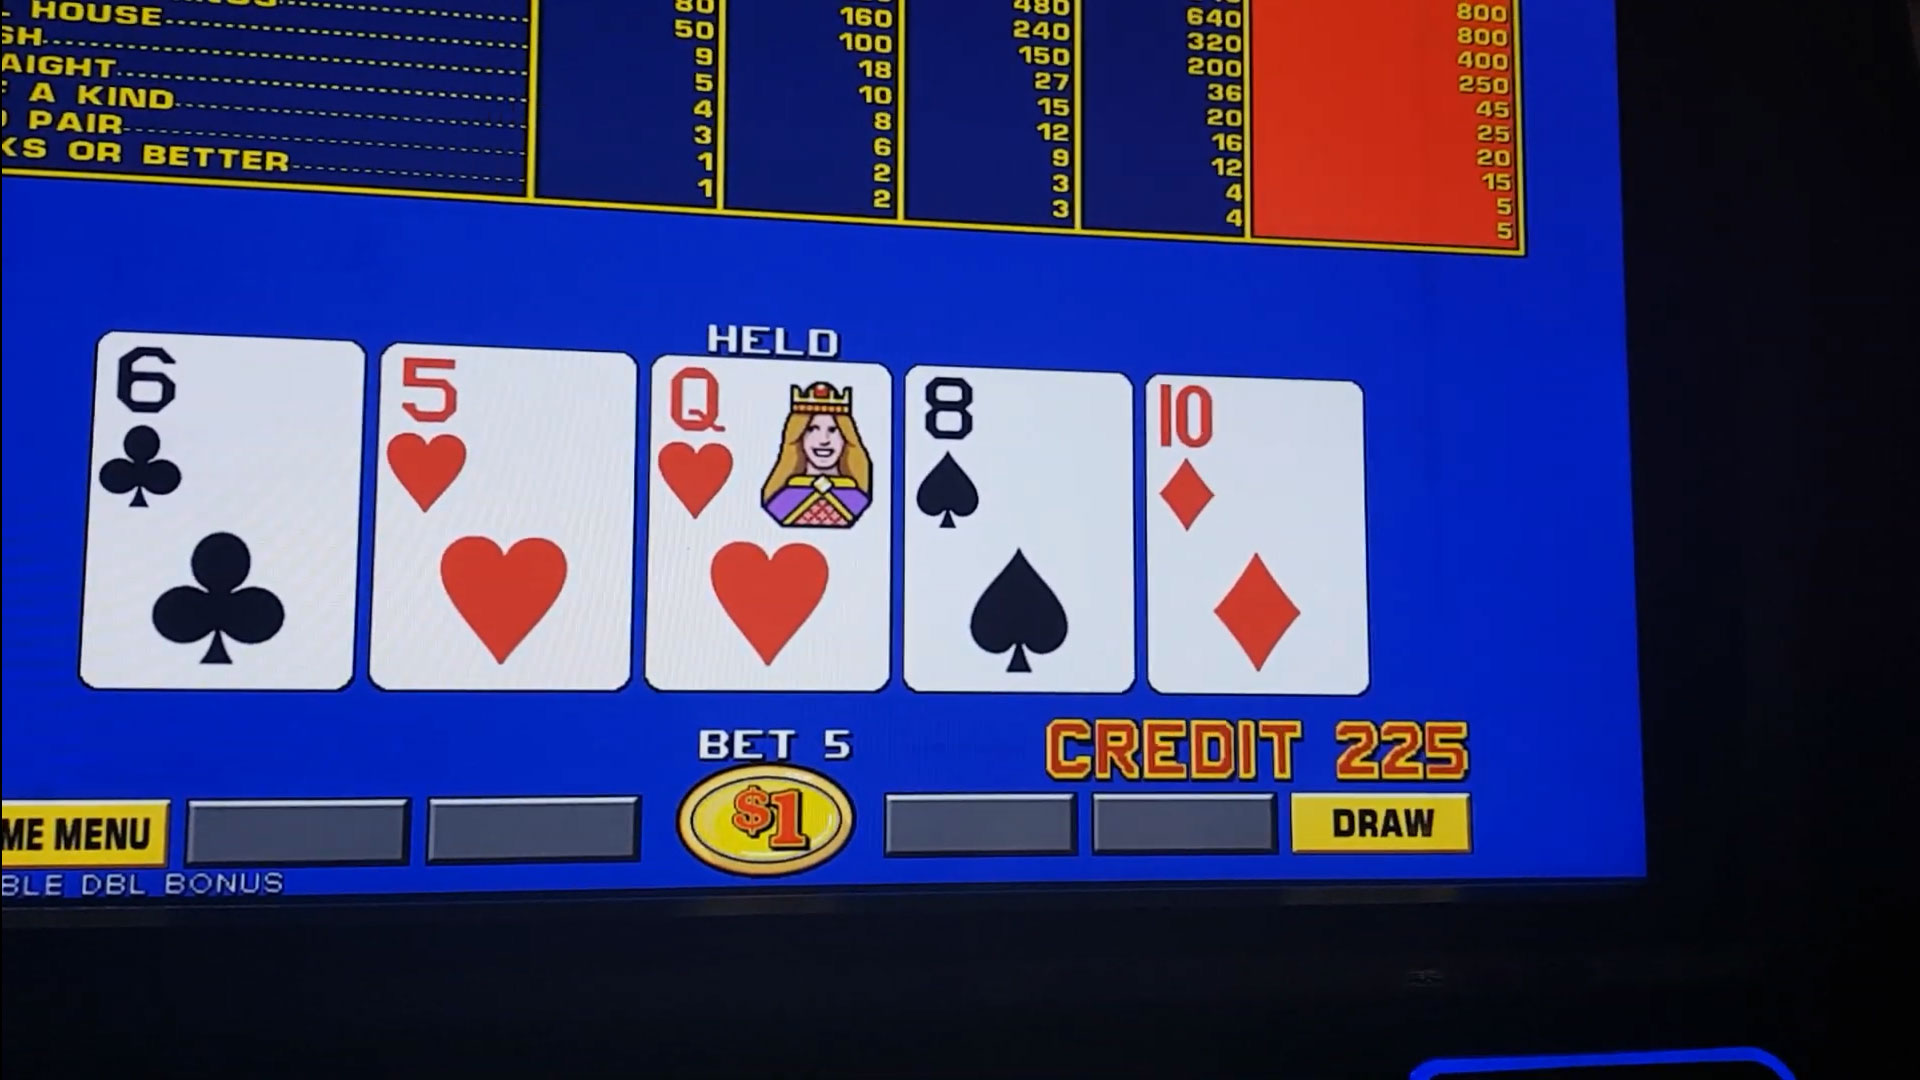C6: (95, 342, 357, 516)
DT: (1156, 381, 1362, 538)
H5: (392, 359, 625, 526)
HQ: (659, 367, 884, 538)
S8: (910, 376, 1130, 535)
